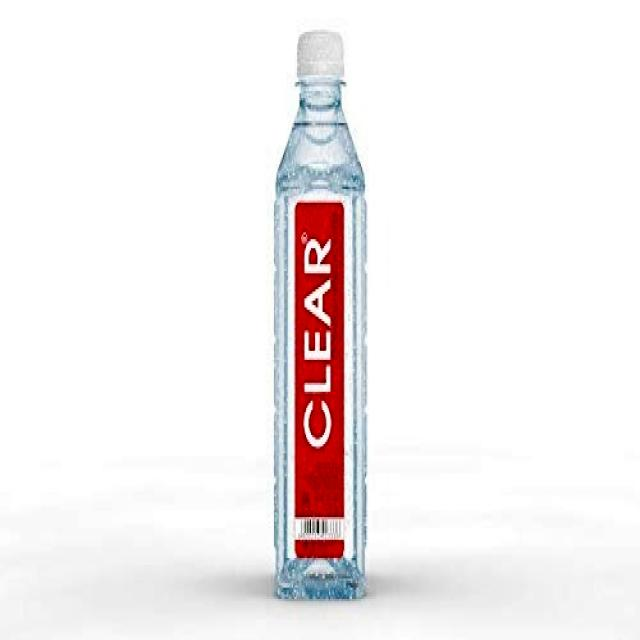full-bottle: (269, 29, 370, 606)
